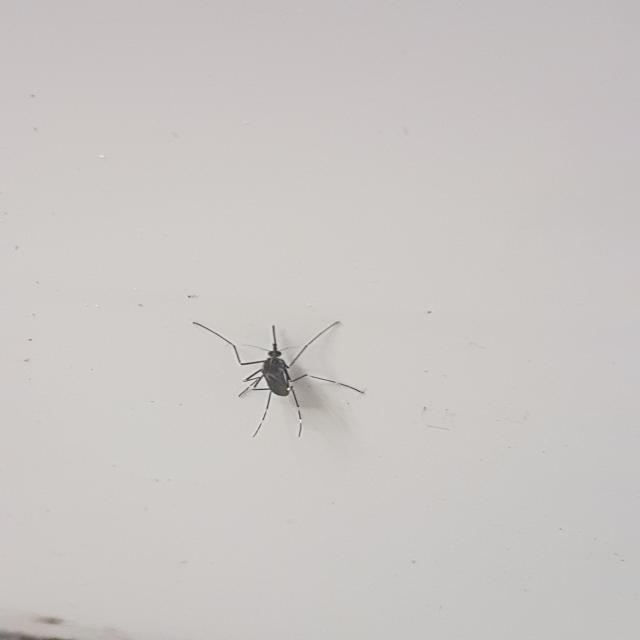albopictus: (184, 316, 370, 437)
